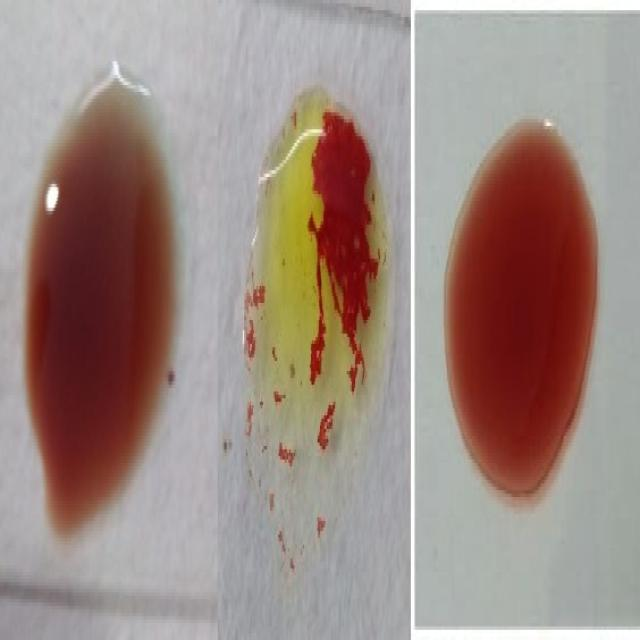B: (234, 48, 396, 553)
